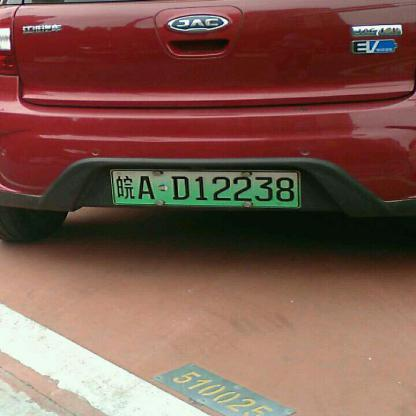lp: (111, 170, 298, 205)
